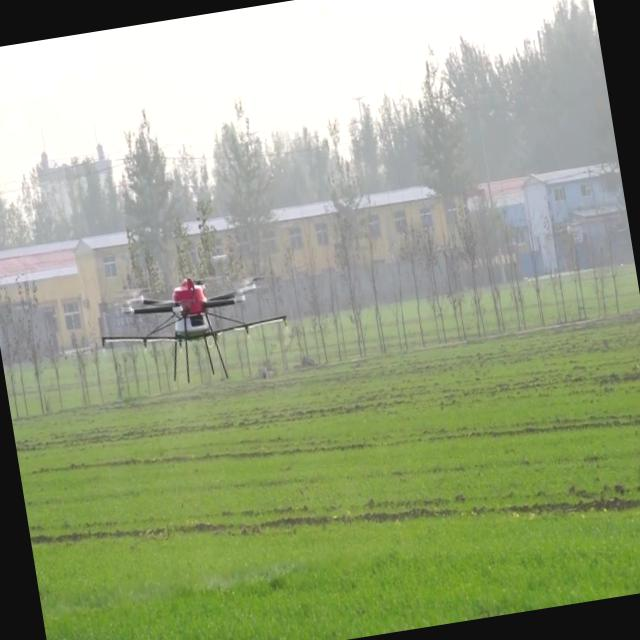drone: (94, 257, 298, 400)
